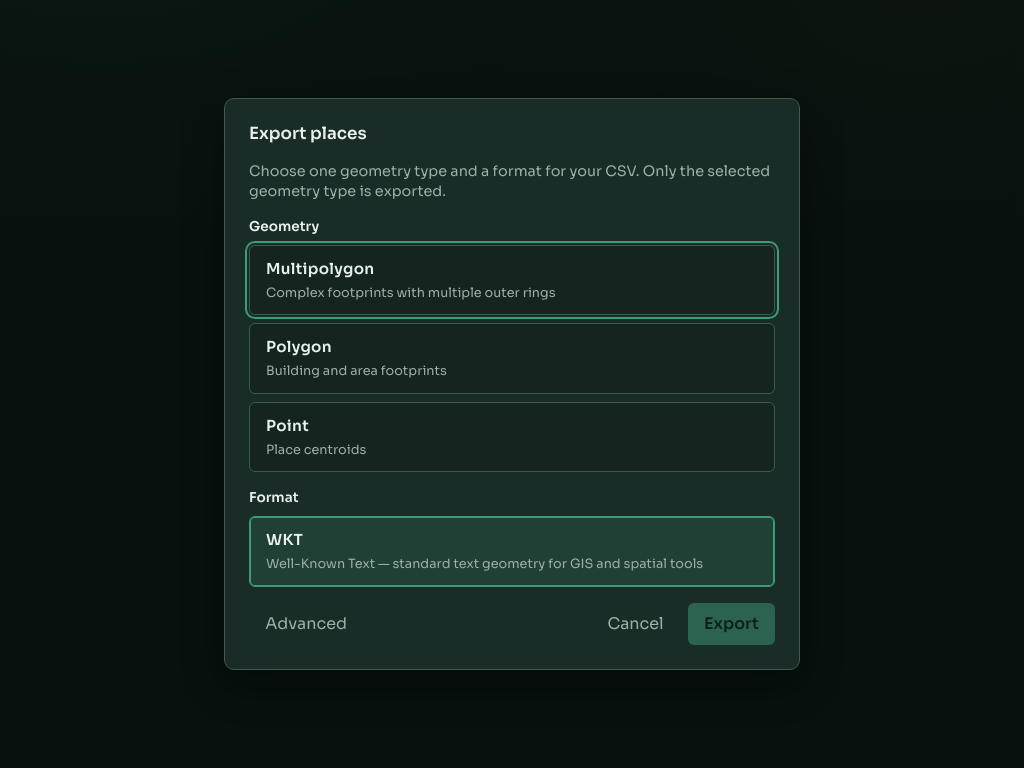
Test: ExportGeometryModal › shows an error and keeps the modal open when no places match
The width and height of the screenshot is (1024, 768).
Click the button "Point Place centroids". click: (288, 425)
box: [249,402,775,472]
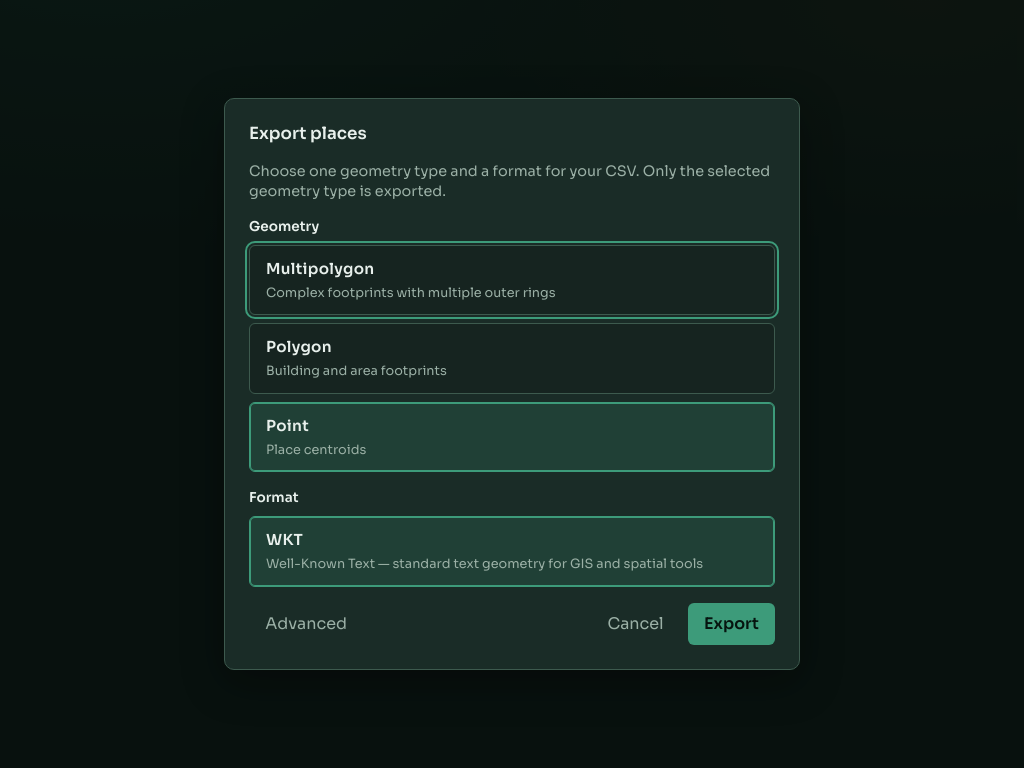
Click the button "Export". click: (731, 624)
box: [688,602,775,645]
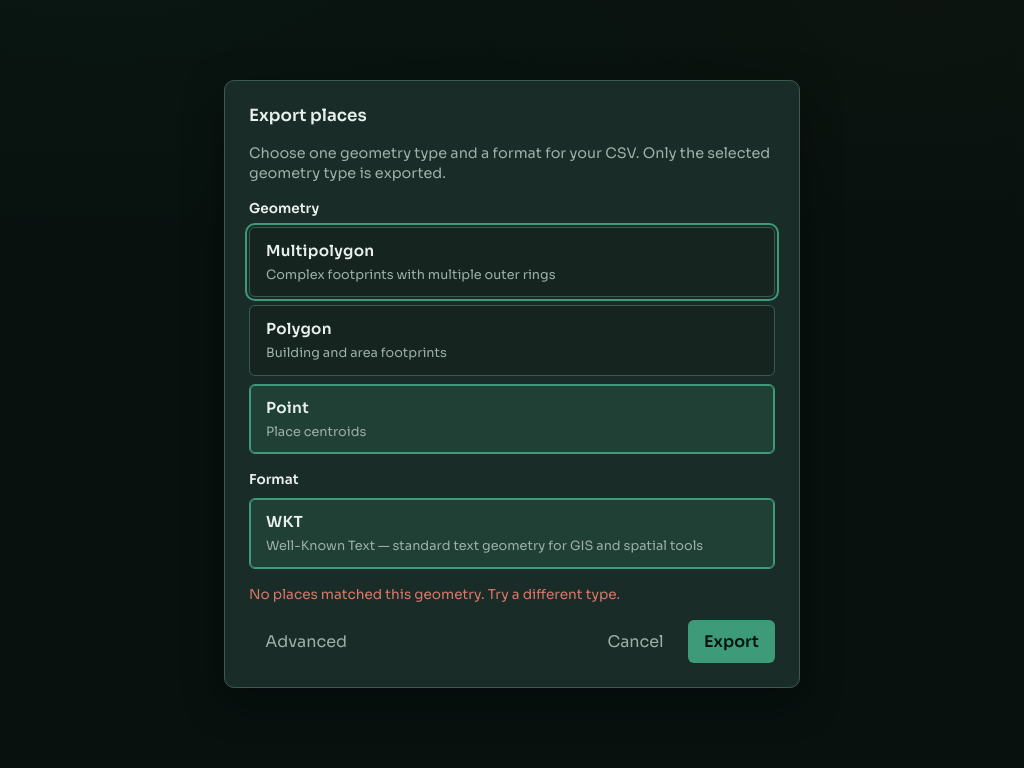
Expected: the dialog "Export places" is shown, [224,80,800,688]
Now the text "No places matched this geometry. Try a different type." is shown, box [249,586,620,603]
